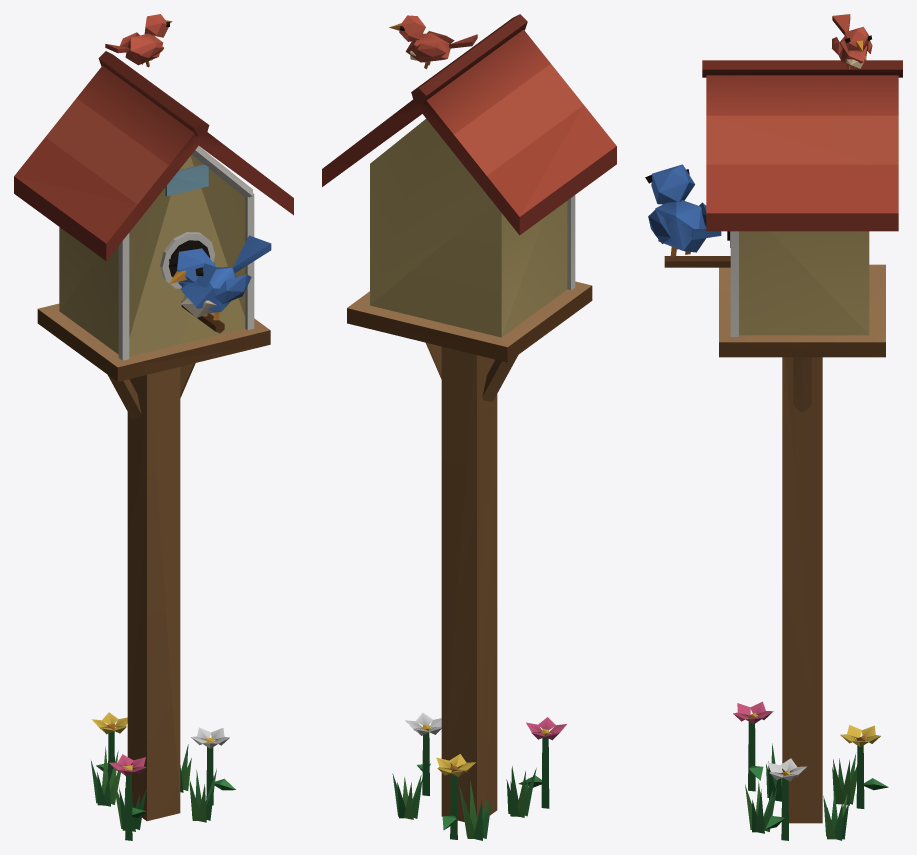
The model's file is birdhouse.glb.
The picture shows the model from 3 angles, left to right: view 1: azimuth 30°, elevation 25°; view 2: azimuth 150°, elevation 25°; view 3: azimuth 270°, elevation 25°; orthographic projection. The views are drawn at different scales.
Visible parts, largest first — view 1: base, bird_m; view 2: base, bird_m; view 3: base, bird_m.
Part boxes in pixels (x1,y1,x2,y2): base: (14,51,293,840); bird_m: (105,14,271,320); base: (322,14,616,840); bird_m: (389,15,477,69); base: (664,60,902,840); bird_m: (645,14,872,256).
Bounding box in the file's own units: 0.27 × 1.06 × 0.3084.
